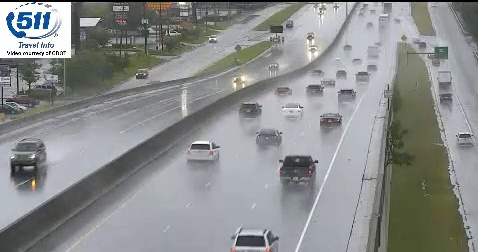car: (232, 228, 280, 252), (280, 156, 315, 184), (188, 141, 218, 163), (257, 129, 282, 146), (240, 101, 261, 118), (320, 113, 342, 128), (337, 89, 357, 101)
